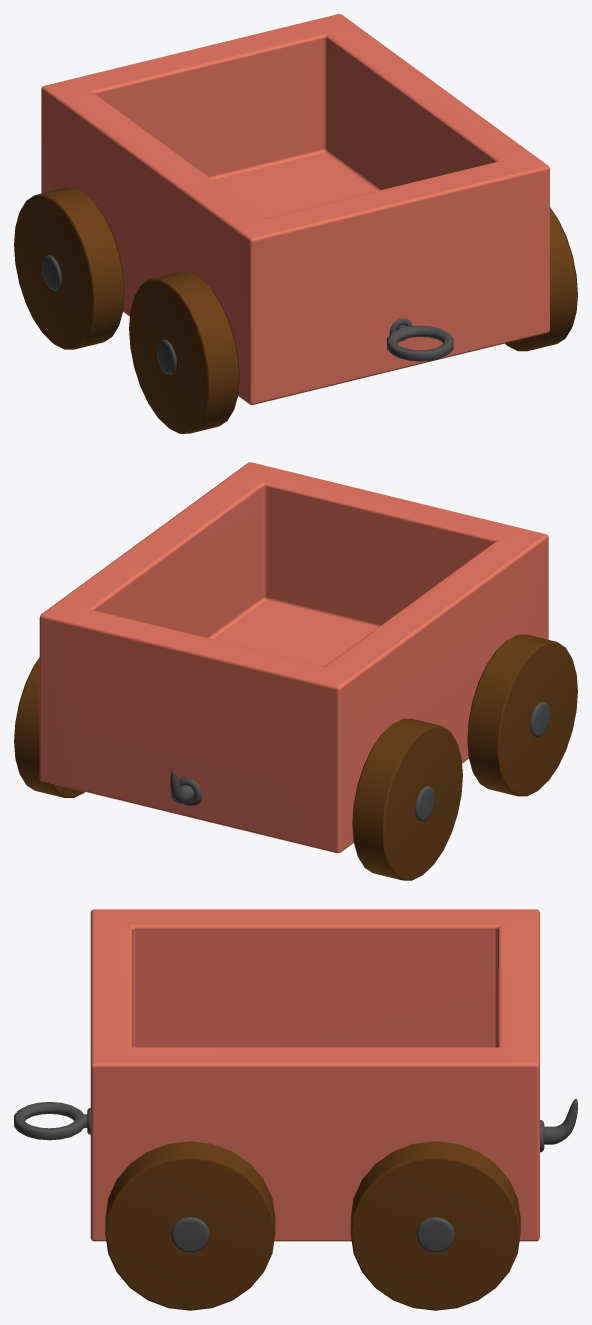
The model's file is trolley.fbx.
3 views of the same model, one above another, from view 1: azimuth 30°, elevation 25°; view 2: azimuth 150°, elevation 25°; view 3: azimuth 270°, elevation 25° (orthographic). The views are drawn at different scales.
Visible parts, largest first — view 1: TrainTrolley; view 2: TrainTrolley; view 3: TrainTrolley.
Boxes of the visible parts, x1=… form: TrainTrolley: x1=14, y1=14, x2=577, y2=433; TrainTrolley: x1=14, y1=462, x2=577, y2=880; TrainTrolley: x1=14, y1=909, x2=577, y2=1310.
Size of the model in its own units: 0.8292 by 0.4517 by 1.01.
